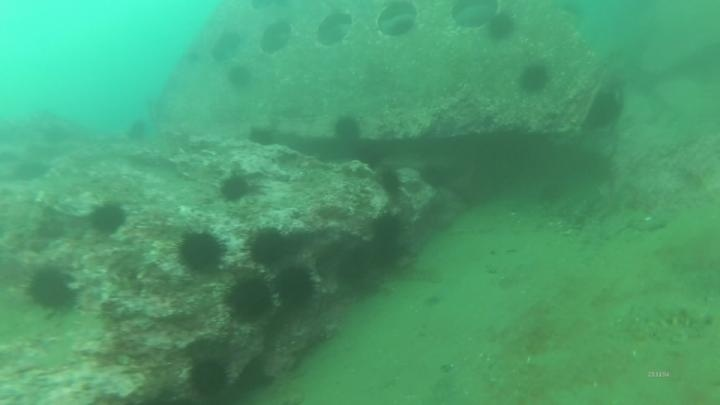echinus: (23, 263, 79, 315), (223, 273, 276, 324), (175, 228, 228, 276), (273, 263, 318, 310), (244, 225, 290, 268), (333, 245, 376, 291), (186, 356, 231, 399), (367, 210, 406, 250), (87, 200, 129, 237), (517, 61, 552, 96), (217, 172, 253, 205), (484, 11, 518, 44), (417, 161, 453, 191), (331, 113, 364, 145), (374, 165, 405, 199), (225, 63, 255, 92), (247, 124, 278, 149), (124, 117, 151, 145)
holothurian: (618, 299, 713, 336)
